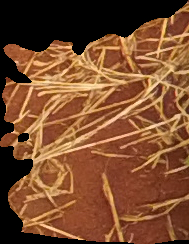soil: (1, 1, 188, 244)
